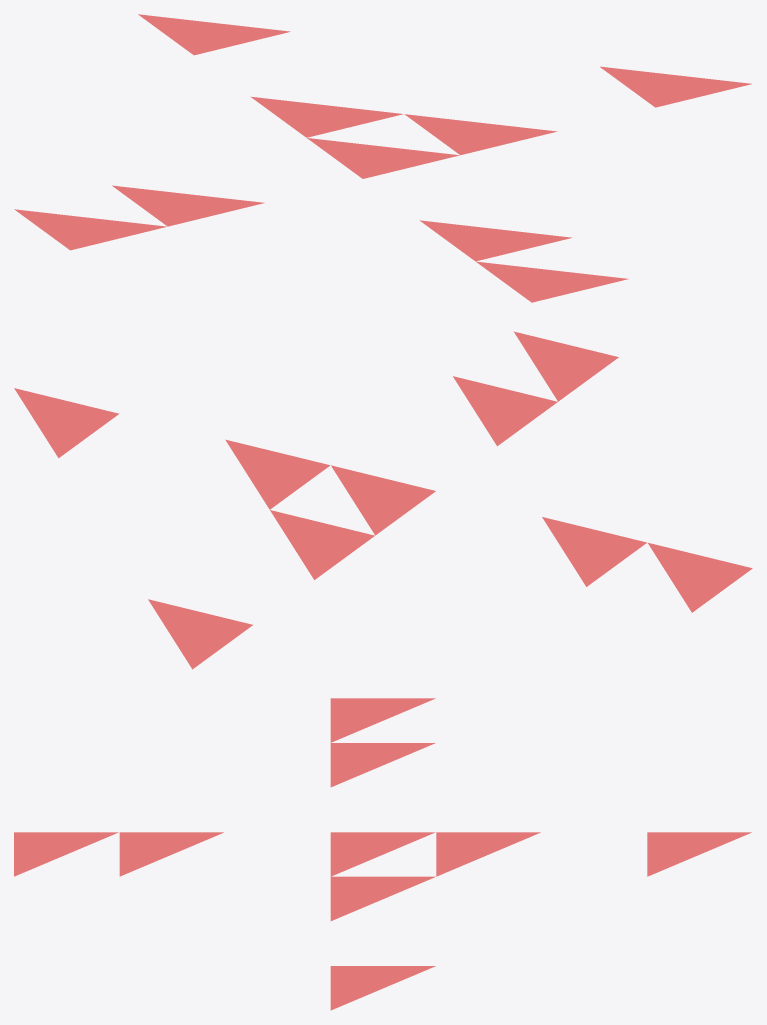
File: spatial-junction-x-basis-blue-boundaries.dae
3 views of the same model, one above another, from view 1: azimuth 30°, elevation 25°; view 2: azimuth 150°, elevation 25°; view 3: azimuth 270°, elevation 25° (orthographic). The views are drawn at different scales.
Visible parts, largest first — view 1: zzx (×5), zox (×2), ozx (×2); view 2: zzx (×5), zox (×2), ozx (×2); view 3: zzx (×5), ozx (×2), zox (×2).
Part boxes in pixels (bbox=[...]): zzx (×5): bbox=[14, 14, 751, 302]; zox (×2): bbox=[250, 96, 572, 261]; ozx (×2): bbox=[112, 114, 557, 226]; zzx (×5): bbox=[14, 331, 752, 669]; zox (×2): bbox=[270, 376, 557, 579]; ozx (×2): bbox=[225, 439, 646, 586]; zzx (×5): bbox=[14, 698, 751, 1010]; ozx (×2): bbox=[330, 743, 435, 920]; zox (×2): bbox=[119, 832, 540, 876].
Size of the model in its own units: 7 by 7 by 0.
